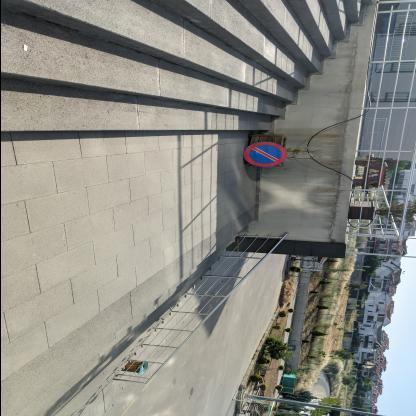No Waiting: (244, 143, 288, 168)
